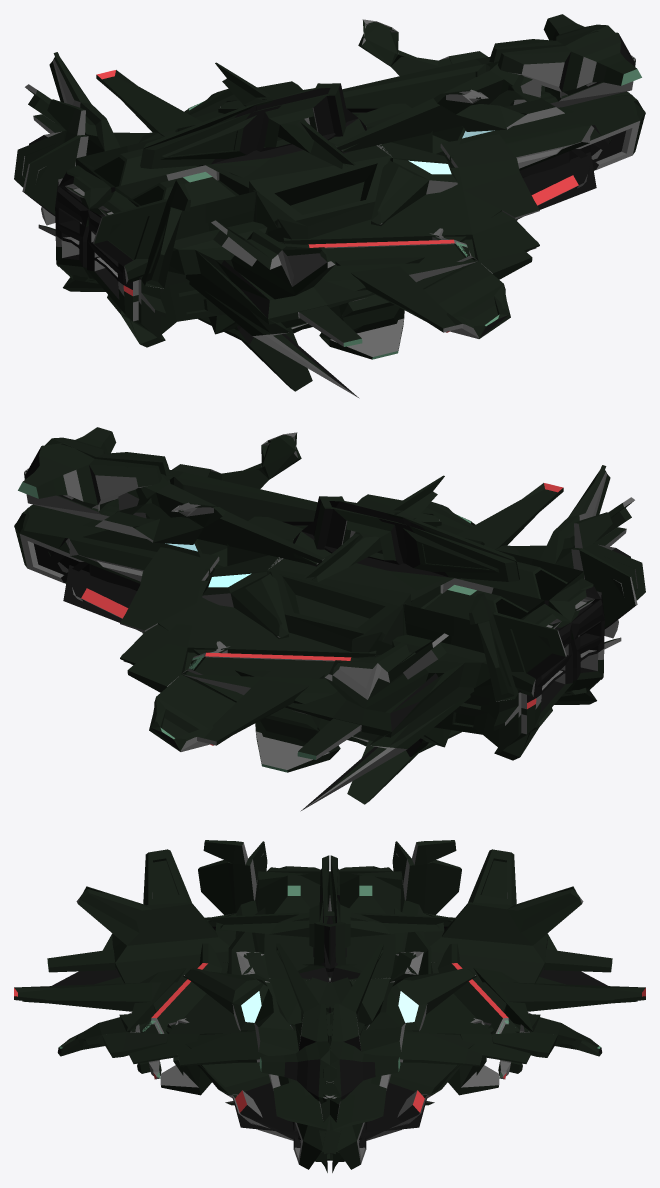
File: scout-BMkp9bTX.glb
3 renders of one model, top to bottom at view 1: azimuth 30°, elevation 25°; view 2: azimuth 150°, elevation 25°; view 3: azimuth 270°, elevation 25°, orthographic. The views are drawn at different scales.
Visible parts, largest first — view 1: Cube; view 2: Cube; view 3: Cube.
Boxes of the visible parts, left/top/right/bottom form: Cube: left=14, top=14, right=645, bottom=398; Cube: left=14, top=427, right=645, bottom=811; Cube: left=14, top=840, right=645, bottom=1172.
Size of the model in its own units: 8.58 by 3.54 by 8.82.
